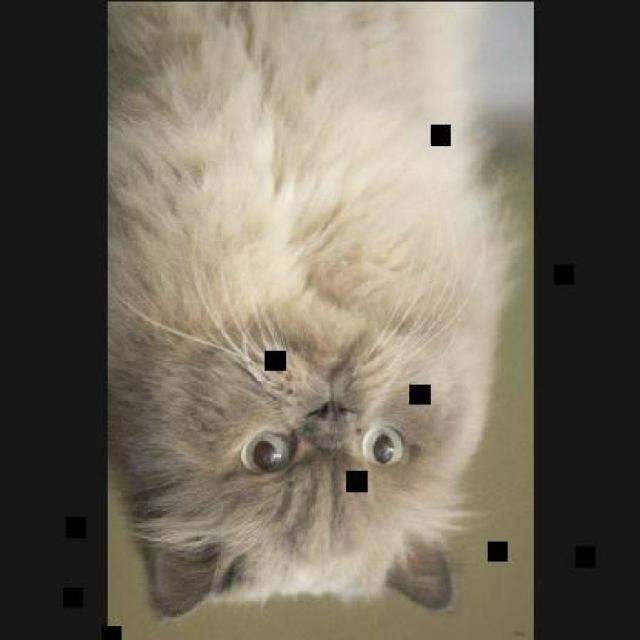unauthorized: (106, 0, 528, 620)
